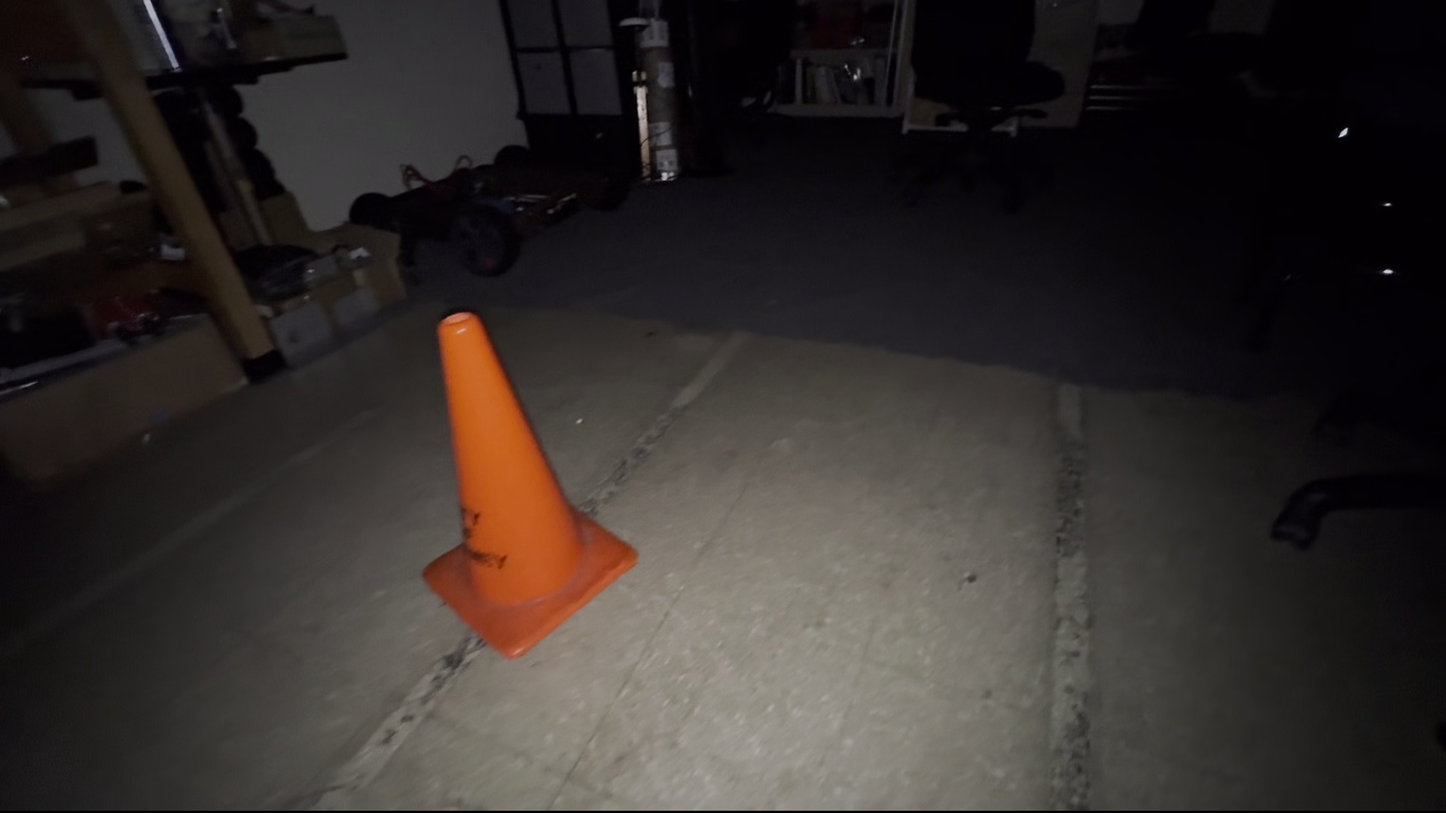traffic_cone: (421, 309, 639, 660)
